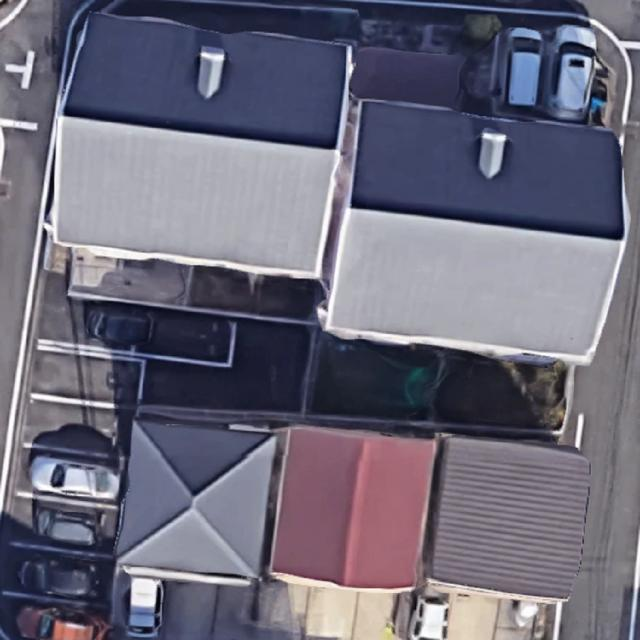Batiment: (327, 101, 625, 364), (54, 14, 348, 278), (272, 428, 437, 589), (430, 438, 589, 599), (117, 421, 276, 578), (364, 502, 367, 506)
